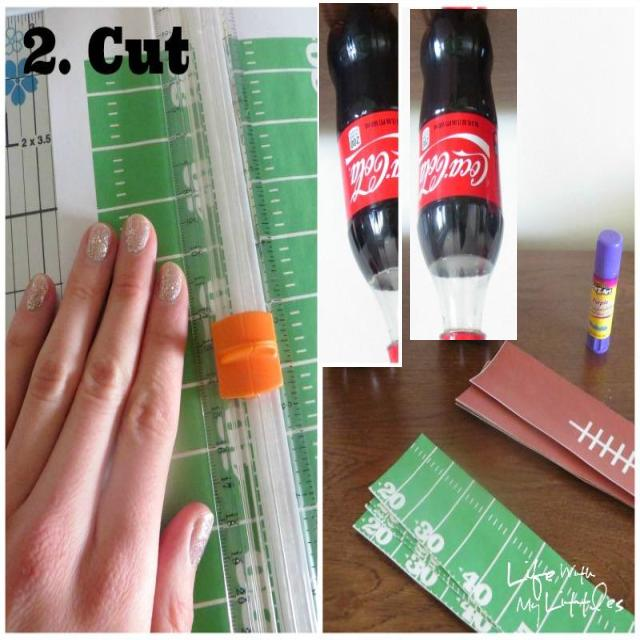coca-cola: (410, 9, 517, 340), (319, 3, 402, 367)
